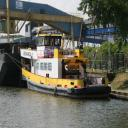tugboat: (18, 21, 113, 102)
